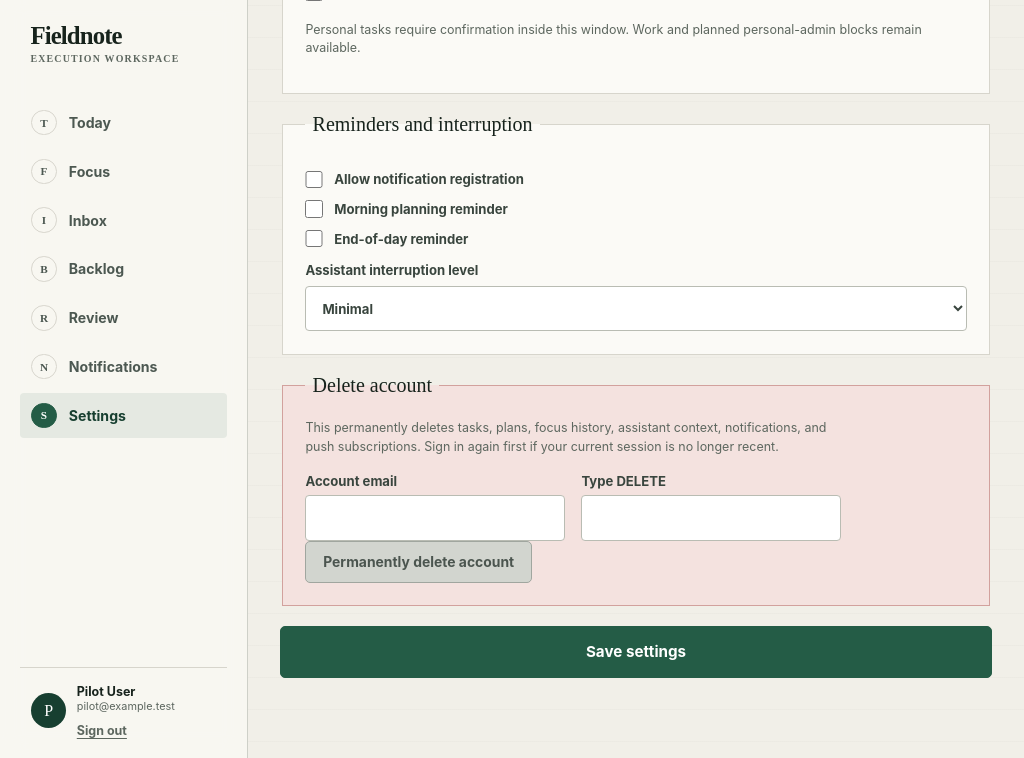
Test: authenticated application routing › requires exact account deletion confirmations in settings
(page scrolled)
Expected: the button "Permanently delete account" is disabled, 305,541 -> 532,583
Type "pilot@example.test" into the field labelled "Account email" at (435, 518), box 305,495 -> 565,541
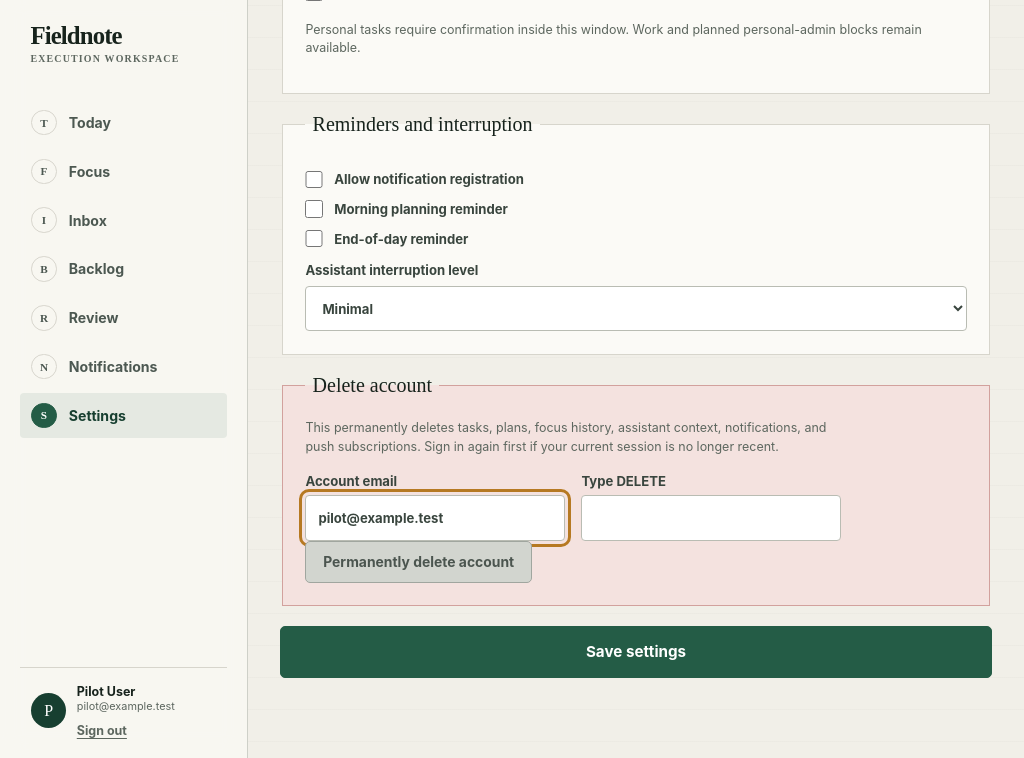
Type "DELETE" into the field labelled "Type DELETE" at (711, 518), box 581,495 -> 841,541
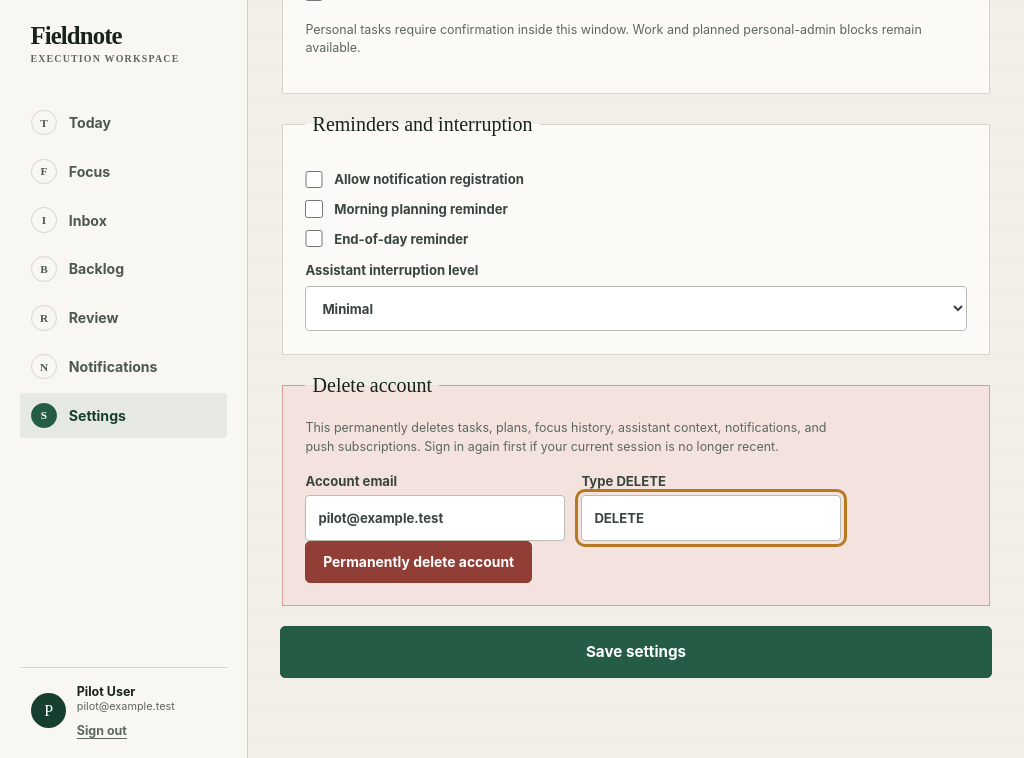
Expected: the button "Permanently delete account" is enabled, 305,541 -> 532,583
